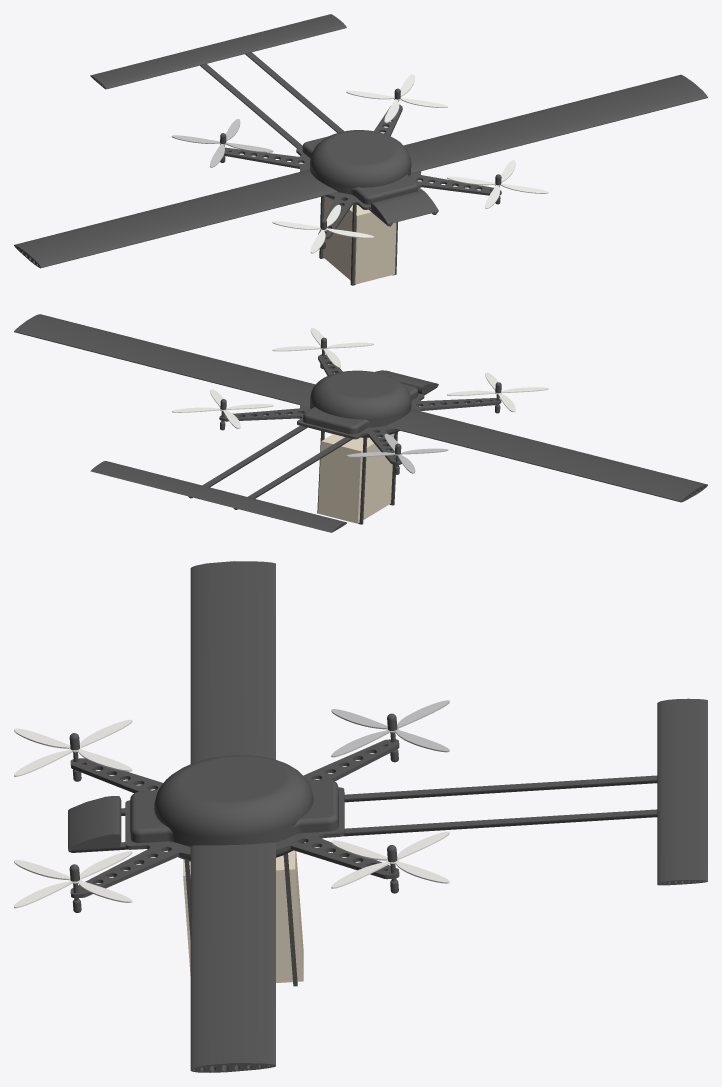
3 views of the same model, one above another, from view 1: azimuth 30°, elevation 25°; view 2: azimuth 150°, elevation 25°; view 3: azimuth 270°, elevation 25° (orthographic). The views are drawn at different scales.
Visible parts, largest first — view 1: Body4, Body8, Body15, Body14, Body11, Body10, Body12; view 2: Body4, Body15, Body8, Body12, Body10, Body14, Body11; view 3: Body4, Body8, Body15, Body12, Body11, Body10, Body14.
Part boxes in pixels (x1,y1,x2,y2): Body4: [14, 52, 707, 285]; Body8: [90, 14, 346, 89]; Body15: [323, 196, 396, 284]; Body14: [346, 74, 447, 123]; Body11: [272, 204, 373, 253]; Body10: [447, 160, 548, 208]; Body12: [171, 119, 273, 167]; Body4: [14, 314, 707, 524]; Body15: [318, 433, 394, 523]; Body8: [90, 461, 346, 532]; Body12: [346, 433, 448, 473]; Body10: [272, 328, 373, 367]; Body14: [172, 389, 273, 428]; Body11: [447, 372, 548, 412]; Body4: [68, 561, 657, 1072]; Body8: [657, 698, 707, 885]; Body15: [183, 850, 303, 982]; Body12: [331, 700, 449, 757]; Body11: [14, 719, 132, 776]; Body10: [14, 851, 132, 908]; Body14: [331, 831, 449, 888].
Size of the model in its own units: 10.61 by 1.92 by 6.06.
